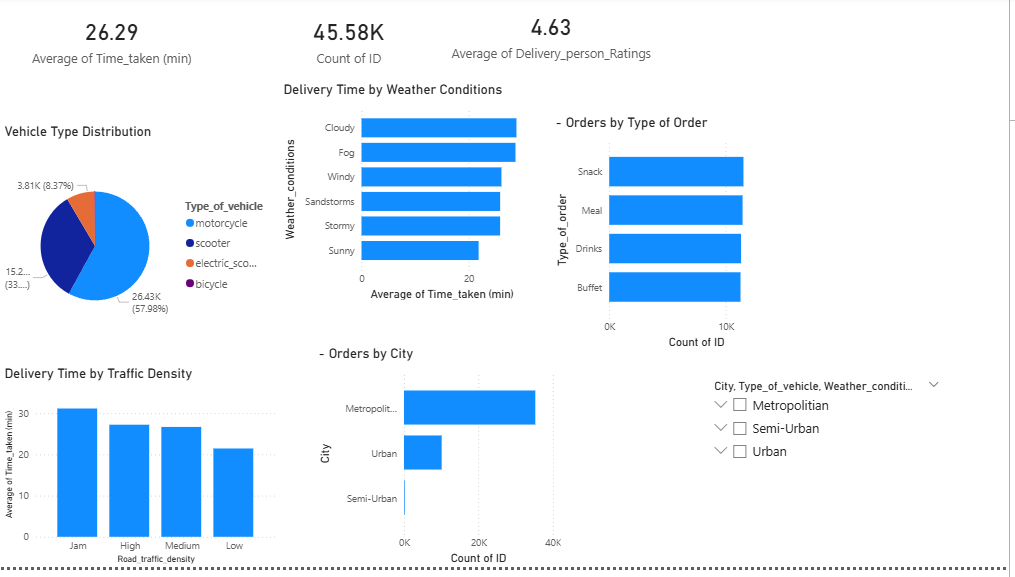

What the dashboard file says about the page in this screenshot:
{"tool":"powerbi","page":{"name":"Food Delivery Analysis","canvas":[1280,720],"ordinal":0},"visuals":[{"type":"card","fields":{"Values":["Avg(clean_zomato_dataset.Time_taken (min))"]},"box":[9.4,0,279.7,107.7],"z":0},{"type":"card","fields":{"Values":["CountNonNull(clean_zomato_dataset.ID)"]},"box":[308,0,279.7,107.7],"z":1},{"type":"card","fields":{"Values":["Avg(clean_zomato_dataset.Delivery_person_Ratings)"]},"box":[563.2,0,279.7,94.5],"z":2},{"type":"clusteredBarChart","title":"- Orders by City ","fields":{"Category":["clean_zomato_dataset.City"],"Y":["CountNonNull(clean_zomato_dataset.ID)"]},"box":[404.4,440.3,315.6,279.7],"z":3},{"type":"pieChart","title":"Vehicle Type Distribution","fields":{"Category":["clean_zomato_dataset.Type_of_vehicle"],"Y":["CountNonNull(clean_zomato_dataset.ID)"]},"box":[9.4,160.6,351.5,287.2],"z":4},{"type":"clusteredColumnChart","title":"Delivery Time by Traffic Density","fields":{"Category":["clean_zomato_dataset.Road_traffic_density"],"Y":["Avg(clean_zomato_dataset.Time_taken (min))"]},"box":[9.4,464.9,351.5,255.1],"z":5},{"type":"clusteredBarChart","title":"Delivery Time by Weather Conditions","fields":{"Category":["clean_zomato_dataset.Weather_conditions"],"Y":["Avg(clean_zomato_dataset.Time_taken (min))"]},"box":[360.9,107.7,317.5,279.7],"z":6},{"type":"clusteredBarChart","title":"- Orders by Type of Order","fields":{"Category":["clean_zomato_dataset.Type_of_order"],"Y":["CountNonNull(clean_zomato_dataset.ID)"]},"box":[703,149.3,308,298.6],"z":7},{"type":"slicer","fields":{"Values":["clean_zomato_dataset.City","clean_zomato_dataset.Type_of_vehicle","clean_zomato_dataset.Weather_conditions"]},"box":[895.8,478.1,308,160.6],"z":8}]}

Visuals, with their boxes in screenshot pixels (x1, y1, x2, y2), scaled from the page's 1280x720 canvas onto the 1015x577 screenshot:
card - Avg(clean_zomato_dataset.Time_taken (min)): pyautogui.locateOnScreen(7, 0, 229, 86)
card - CountNonNull(clean_zomato_dataset.ID): pyautogui.locateOnScreen(244, 0, 466, 86)
card - Avg(clean_zomato_dataset.Delivery_person_Ratings): pyautogui.locateOnScreen(447, 0, 668, 76)
"- Orders by City " clusteredBarChart: pyautogui.locateOnScreen(321, 353, 571, 576)
"Vehicle Type Distribution" pieChart: pyautogui.locateOnScreen(7, 129, 286, 359)
"Delivery Time by Traffic Density" clusteredColumnChart: pyautogui.locateOnScreen(7, 373, 286, 576)
"Delivery Time by Weather Conditions" clusteredBarChart: pyautogui.locateOnScreen(286, 86, 538, 310)
"- Orders by Type of Order" clusteredBarChart: pyautogui.locateOnScreen(557, 120, 802, 359)
slicer - clean_zomato_dataset.City x clean_zomato_dataset.Type_of_vehicle: pyautogui.locateOnScreen(710, 383, 955, 512)
